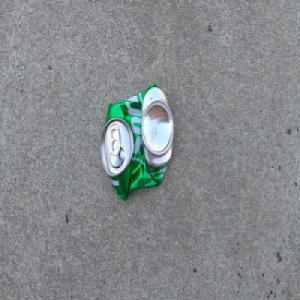SodaCan: (100, 81, 174, 201)
